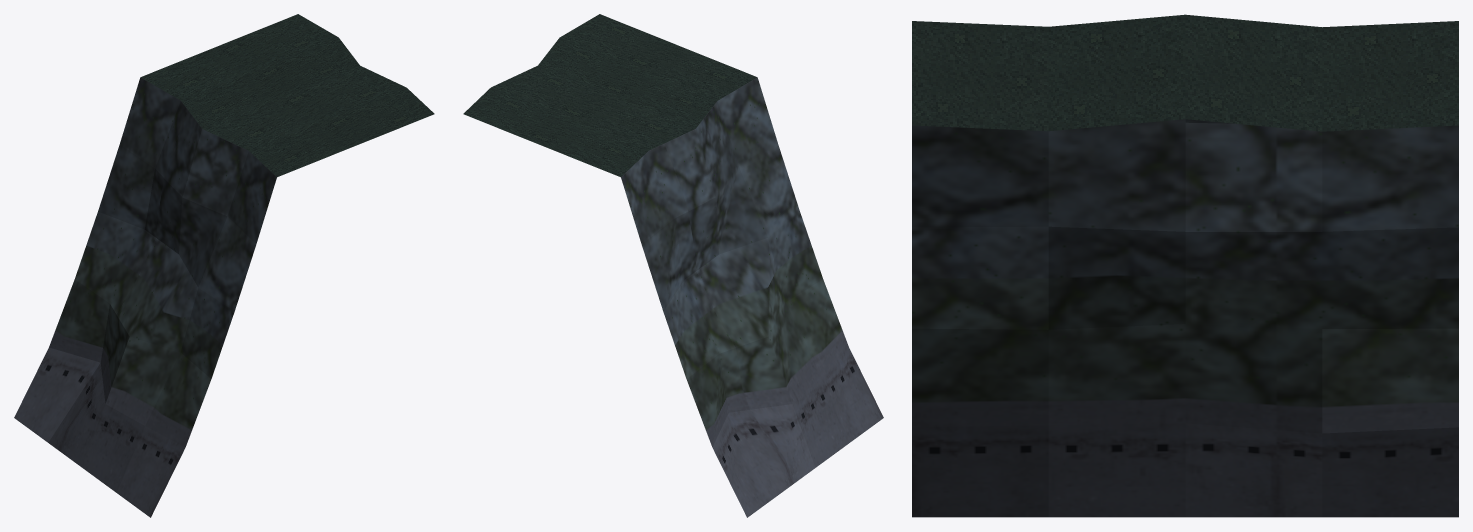
The model's file is touge_cutslope_a.glb.
3 views of the same model, side by side, from view 1: azimuth 30°, elevation 25°; view 2: azimuth 150°, elevation 25°; view 3: azimuth 270°, elevation 25° (orthographic). The views are drawn at different scales.
Visible parts, largest first — view 1: touge_cutslope_a; view 2: touge_cutslope_a; view 3: touge_cutslope_a.
Boxes of the visible parts, bbox=[...] form: touge_cutslope_a: bbox=[14, 14, 434, 517]; touge_cutslope_a: bbox=[463, 14, 883, 517]; touge_cutslope_a: bbox=[912, 14, 1458, 517].
Size of the model in its own units: 7.36 by 8.1 by 6.
2 materials, 2 textured.
